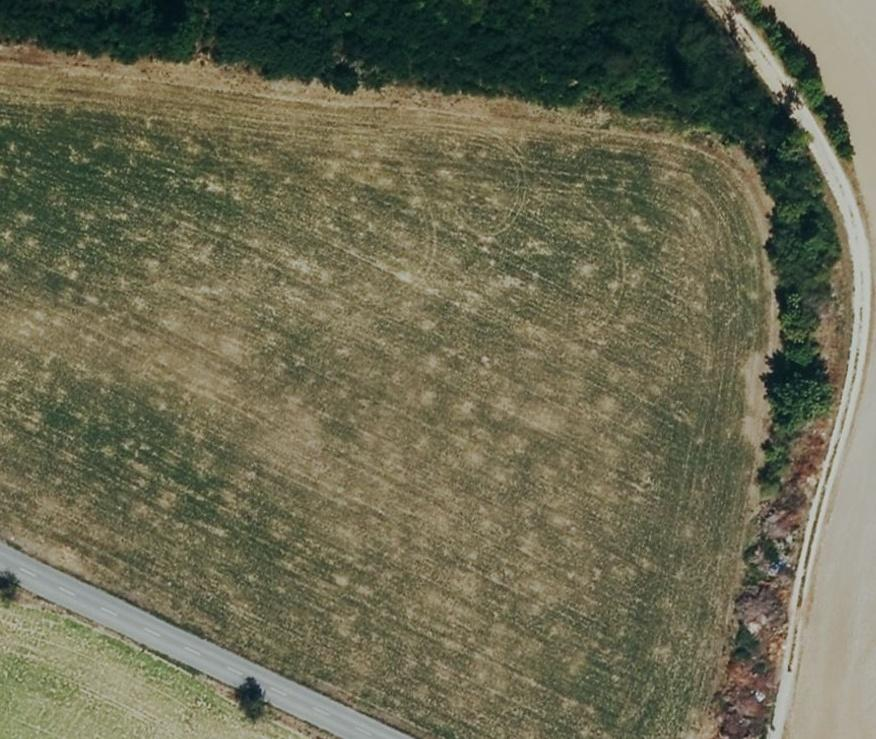field: (0, 48, 772, 736), (767, 0, 876, 737), (0, 590, 332, 737)
forest: (0, 0, 838, 476)
